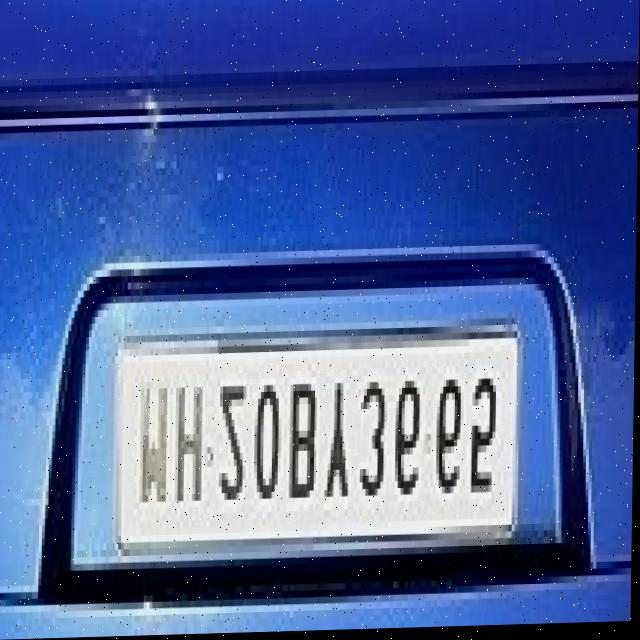plate: (111, 334, 524, 571)
